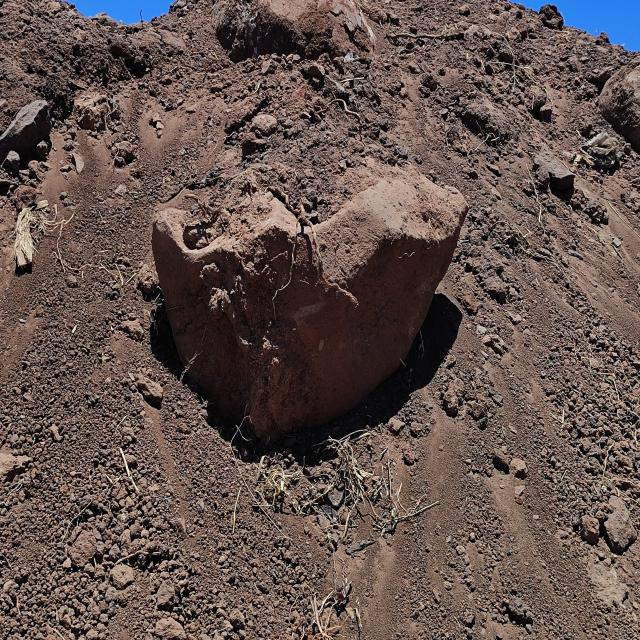rock: (150, 158, 469, 445), (0, 98, 55, 185)
